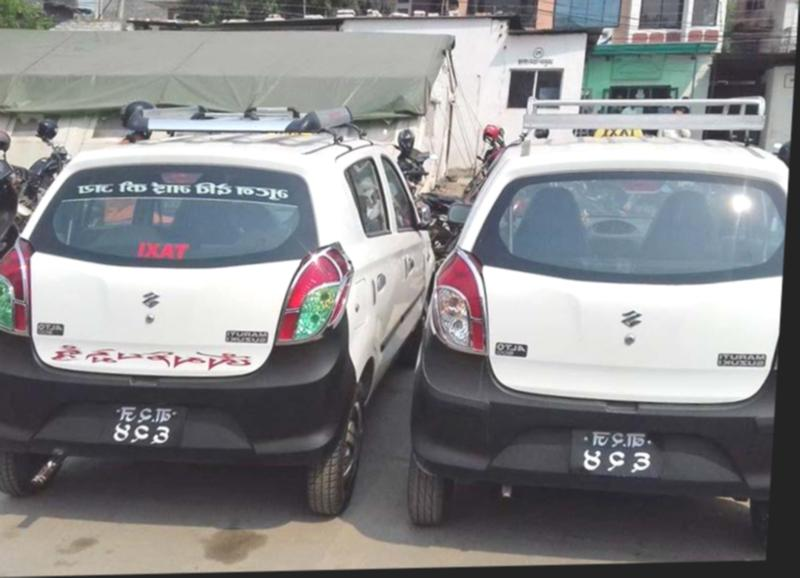License_Plate: (559, 418, 673, 486), (101, 393, 193, 453)
